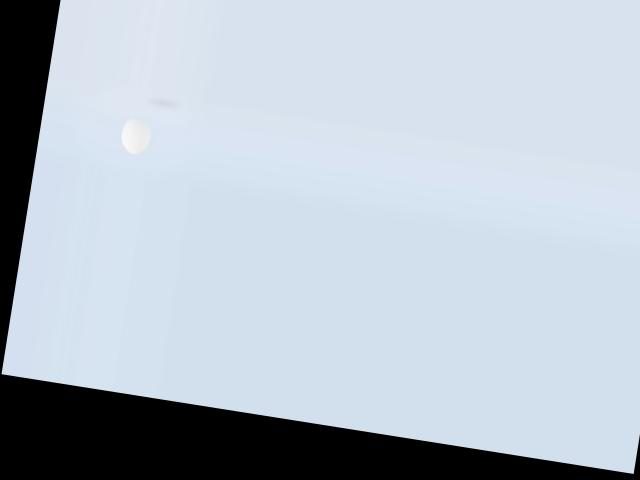egg: (118, 115, 153, 155)
